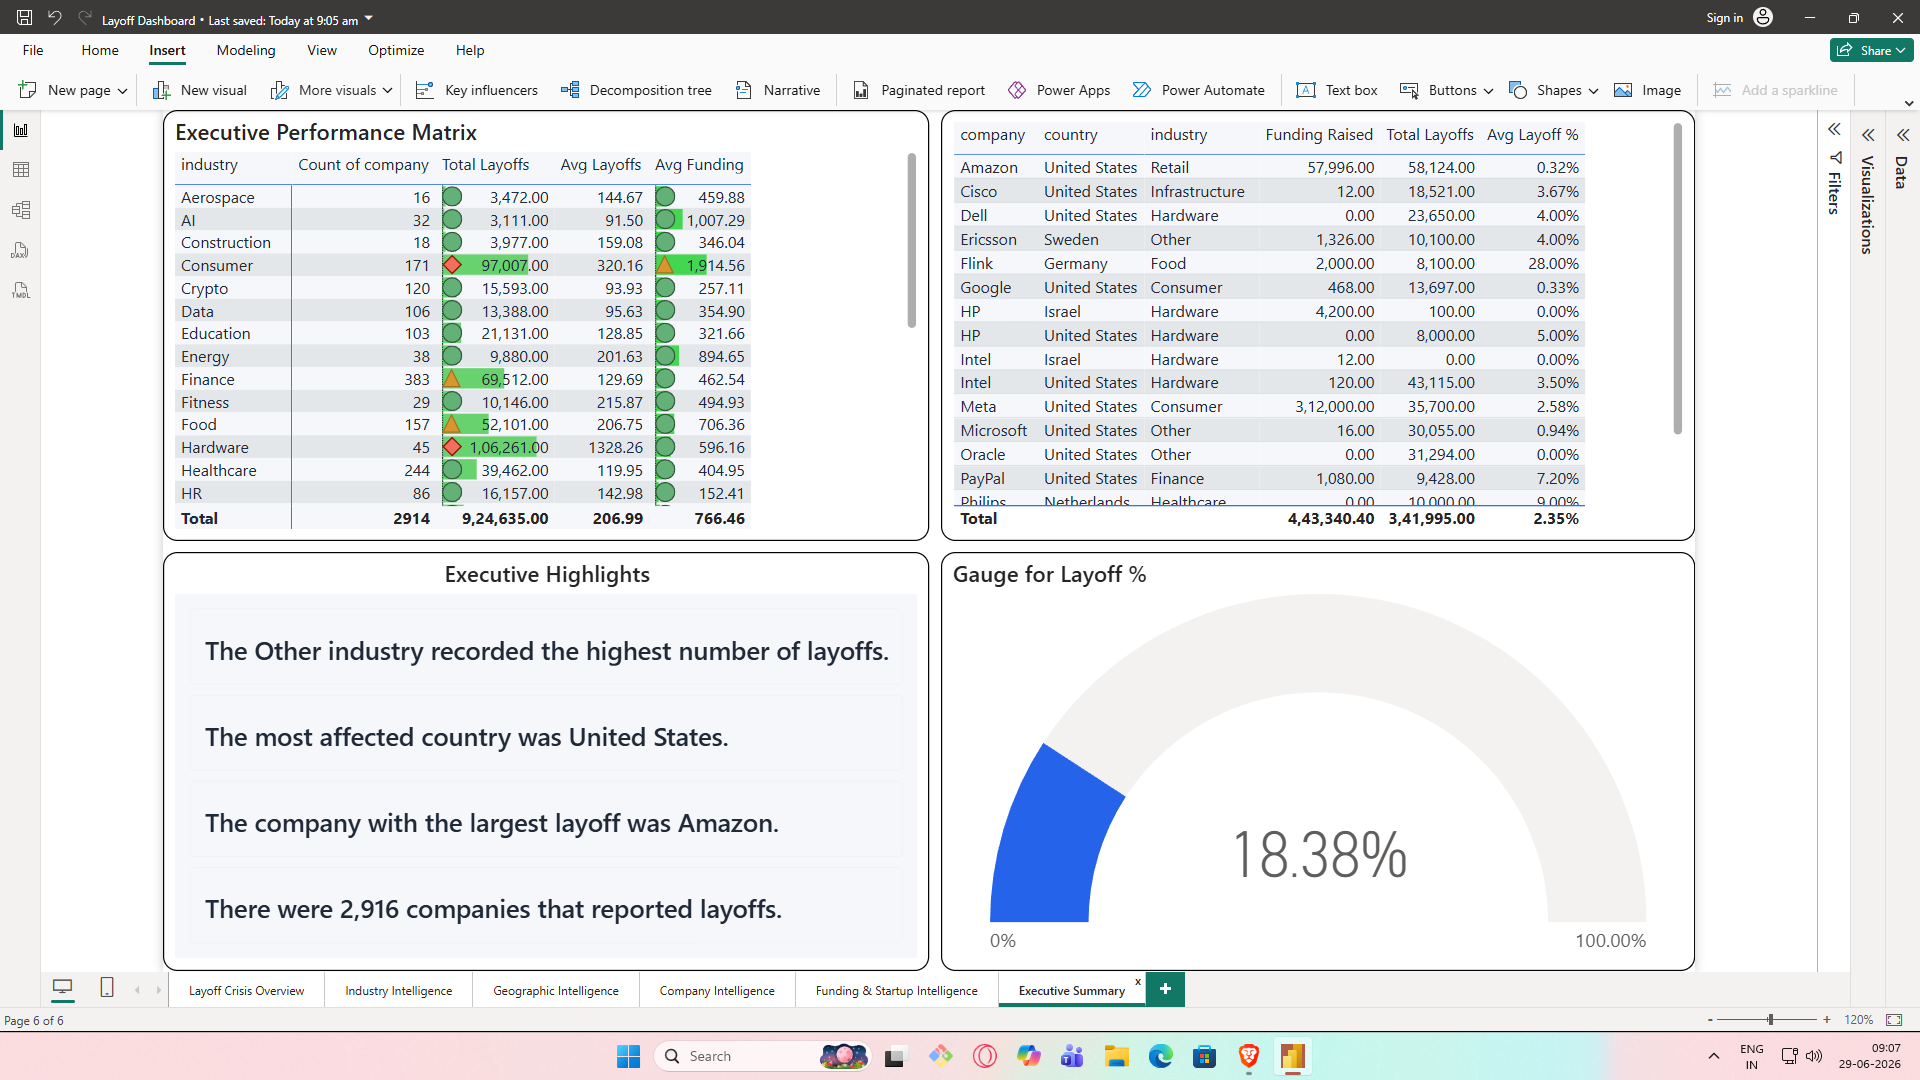

The dashboard page shown, as its layout file describes it:
{"tool":"powerbi","page":{"name":"Executive Summary","canvas":[1280,720],"ordinal":5},"visuals":[{"type":"pivotTable","title":"Executive Performance Matrix","fields":{"Rows":["layoffs.industry"],"Values":["Count(layoffs.company)","layoffs.Total Layoffs","layoffs.Avg Layoffs","layoffs.Avg Funding"]},"box":[0,0,640,359.9],"z":0},{"type":"cardVisual","title":"Executive Highlights","fields":{"Data":["layoffs.Executive Insight 1","layoffs.Executive Insight 2","layoffs.Executive Insight 3","layoffs.Executive Insight 4"]},"box":[0,369.6,640,350.2],"z":1000},{"type":"tableEx","fields":{"Values":["layoffs.company","layoffs.country","layoffs.industry","layoffs.Total Funding","layoffs.Total Layoffs","layoffs.Avg Layoff %"]},"box":[650,0,630,360],"z":2000},{"type":"gauge","title":"Gauge for Layoff %","fields":{"MinValue":["layoffs.Minimum"],"Y":["layoffs.Avg Layoff %"],"TargetValue":["layoffs.target"]},"box":[649.7,369.6,630.3,350.2],"z":3000}]}

Visuals, with their boxes on the page's 1280x720 design canvas (x1, y1, x2, y2). These are canvas units, not pixel positions in the 1920x1080 screenshot, which may show the page scaled, cropped or inside an application window:
"Executive Performance Matrix" pivotTable: 0, 0, 640, 360
"Executive Highlights" cardVisual: 0, 370, 640, 720
tableEx - layoffs.company x layoffs.country: 650, 0, 1280, 360
"Gauge for Layoff %" gauge: 650, 370, 1280, 720
